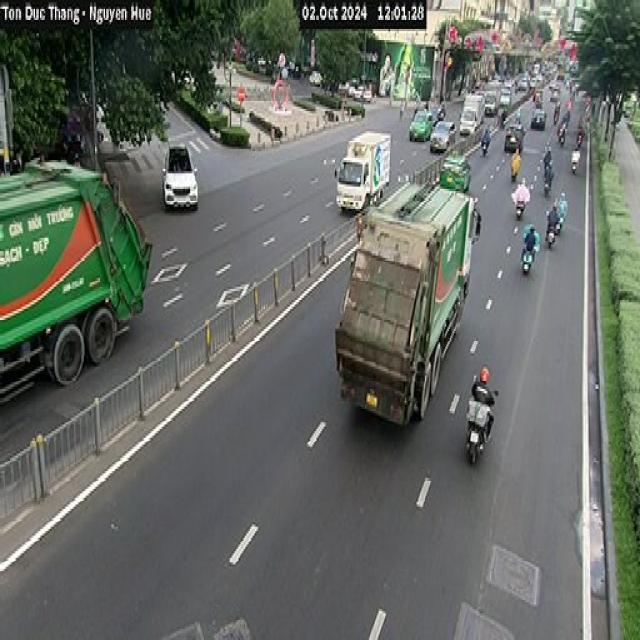car: (159, 140, 204, 216), (429, 120, 455, 151)
motorcycle: (464, 394, 495, 464)
person: (469, 364, 495, 442), (379, 51, 395, 96), (510, 147, 521, 180)
truck: (0, 155, 152, 404), (334, 176, 480, 427), (335, 125, 393, 212)
